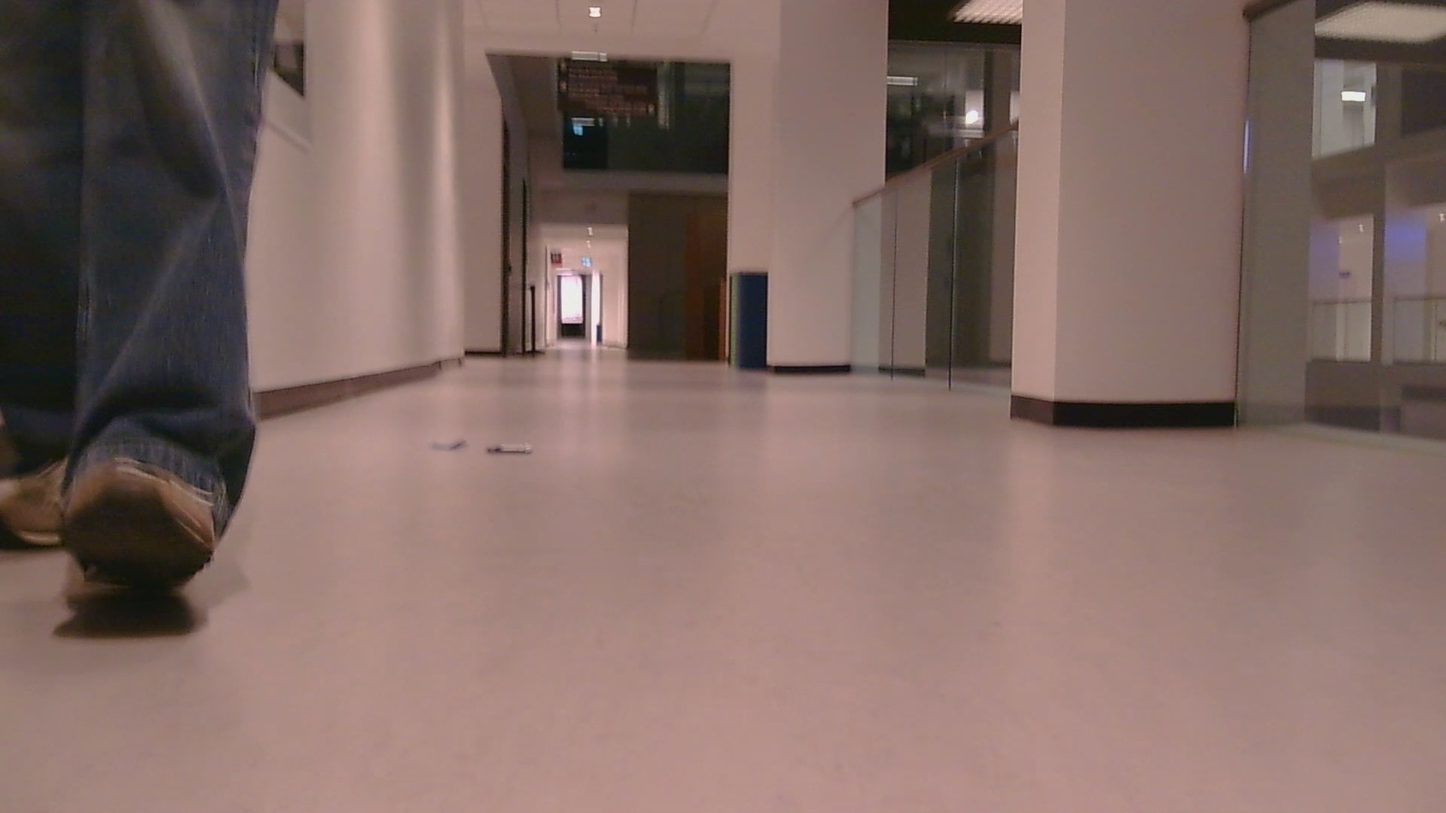carton: (484, 431, 553, 468), (414, 428, 470, 458)
